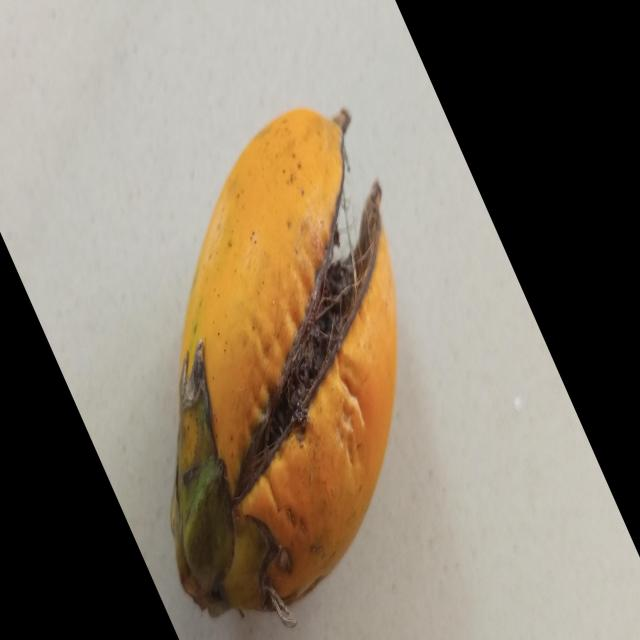damaged: (172, 108, 397, 616)
